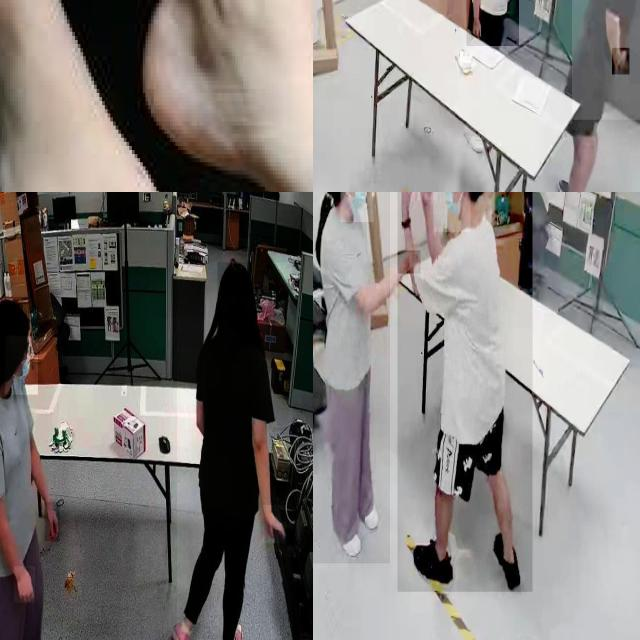Barefoots: (143, 0, 313, 192)
face_mask: (5, 336, 38, 395), (433, 192, 470, 231), (340, 192, 373, 222)
hand_noglove: (263, 505, 287, 544), (14, 566, 36, 604), (44, 502, 60, 542), (397, 250, 421, 274), (612, 48, 630, 75), (471, 17, 481, 39), (417, 192, 437, 200), (399, 192, 414, 201)
head_nohelmet: (218, 262, 254, 297), (0, 297, 30, 335)
person: (397, 192, 532, 593), (177, 262, 293, 640), (313, 192, 390, 564), (0, 295, 68, 640), (572, 0, 640, 120), (466, 0, 519, 47)
shoes: (488, 526, 524, 594), (408, 537, 456, 583), (333, 513, 363, 558), (356, 485, 380, 533), (215, 615, 246, 640), (170, 615, 195, 640), (555, 176, 586, 192)
